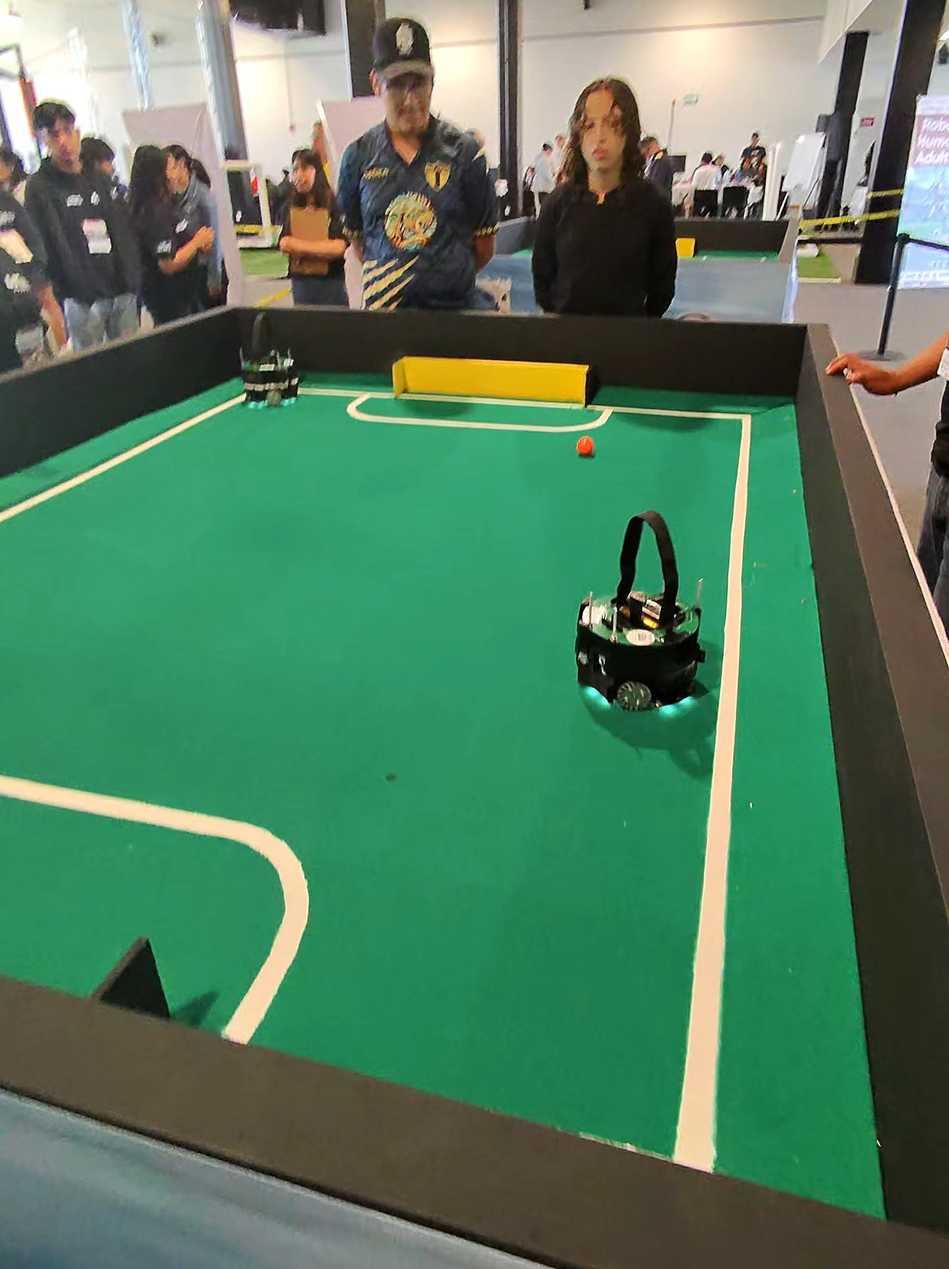Robot: (569, 483, 723, 758), (225, 304, 313, 427)
pelota: (563, 423, 607, 469)
